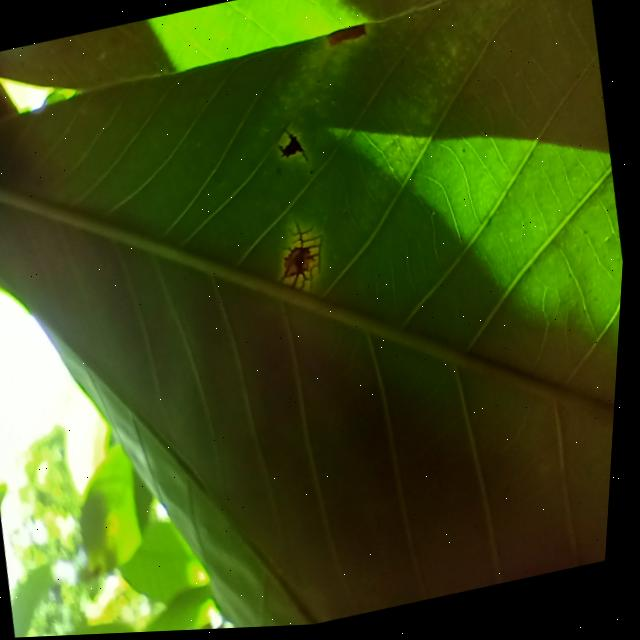Corynespora: (269, 217, 336, 305), (273, 127, 311, 171)
Leaf-Blight: (325, 25, 368, 49)
